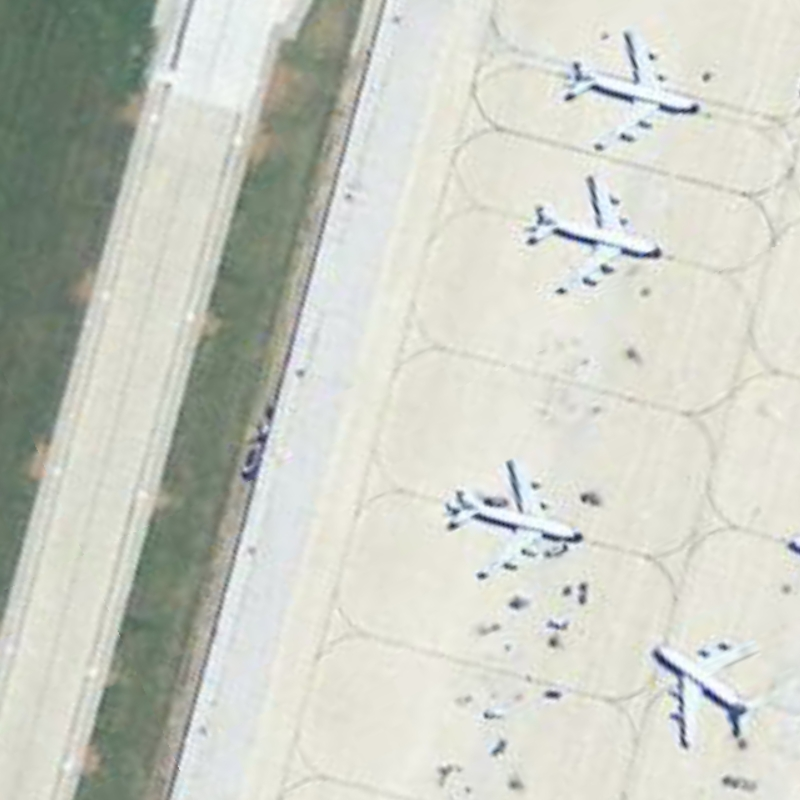A11: (511, 163, 667, 303), (437, 452, 591, 586), (557, 24, 710, 158), (642, 626, 781, 760)
